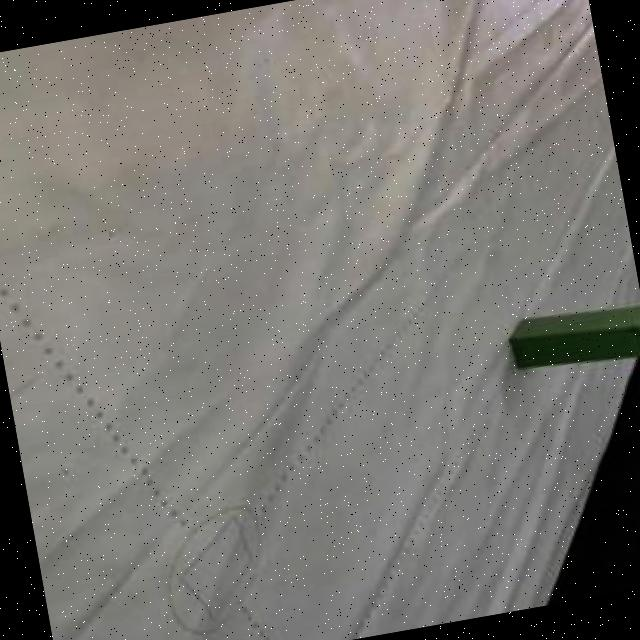greenbox: (503, 294, 640, 375)
